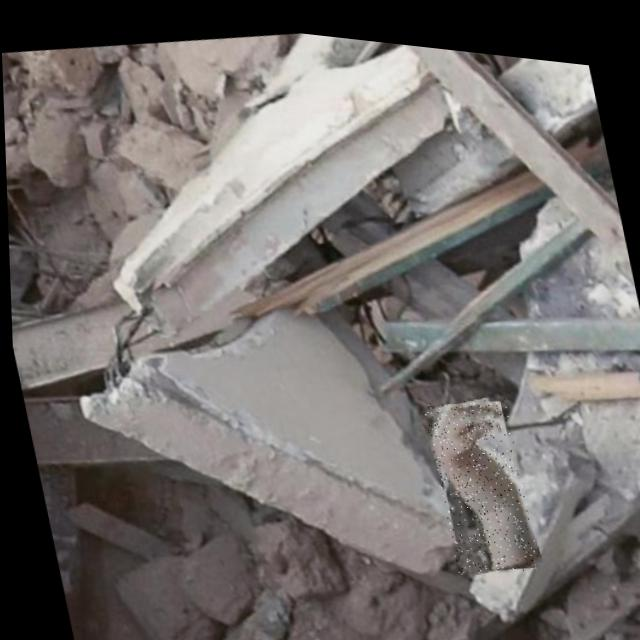Person in Rubble: (419, 378, 536, 570)
